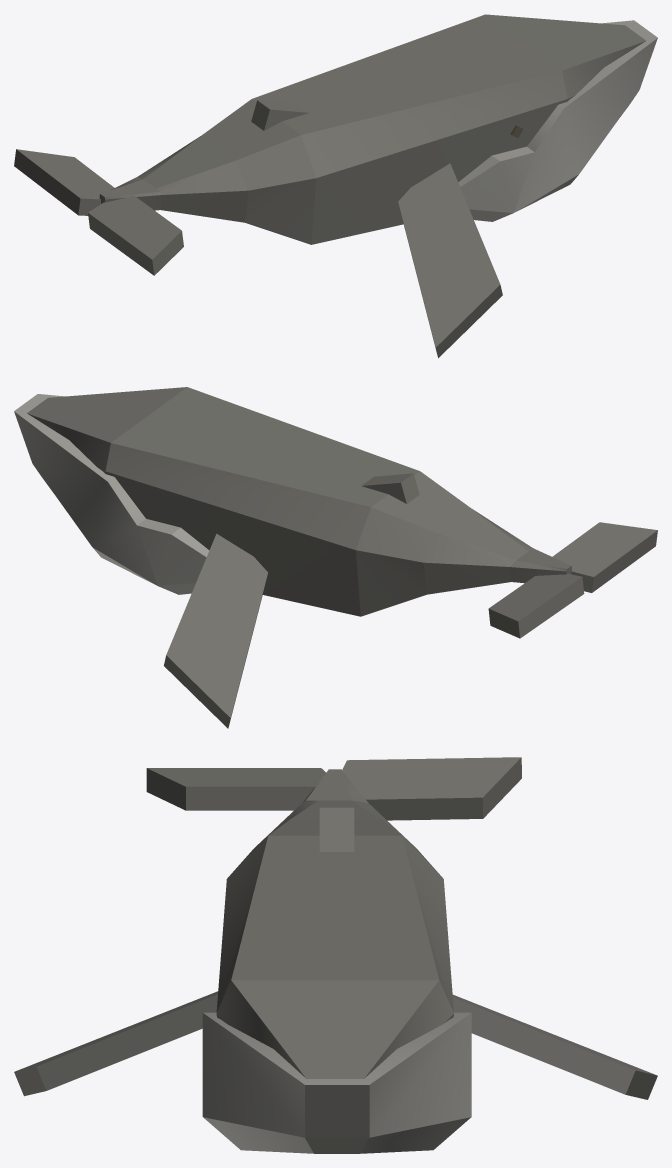
The model's file is whale.fbx.
3 views of the same model, one above another, from view 1: azimuth 30°, elevation 25°; view 2: azimuth 150°, elevation 25°; view 3: azimuth 270°, elevation 25° (orthographic). The views are drawn at different scales.
Visible parts, largest first — view 1: polySurface135; view 2: polySurface135; view 3: polySurface135.
Boxes of the visible parts, x1,y1,x2,y2 form: polySurface135: (14, 14, 657, 358); polySurface135: (14, 387, 657, 728); polySurface135: (14, 757, 657, 1153).
Bounding box in the file's own units: 223 × 69.54 × 163.
Materials: 1 (1 with a texture image).
